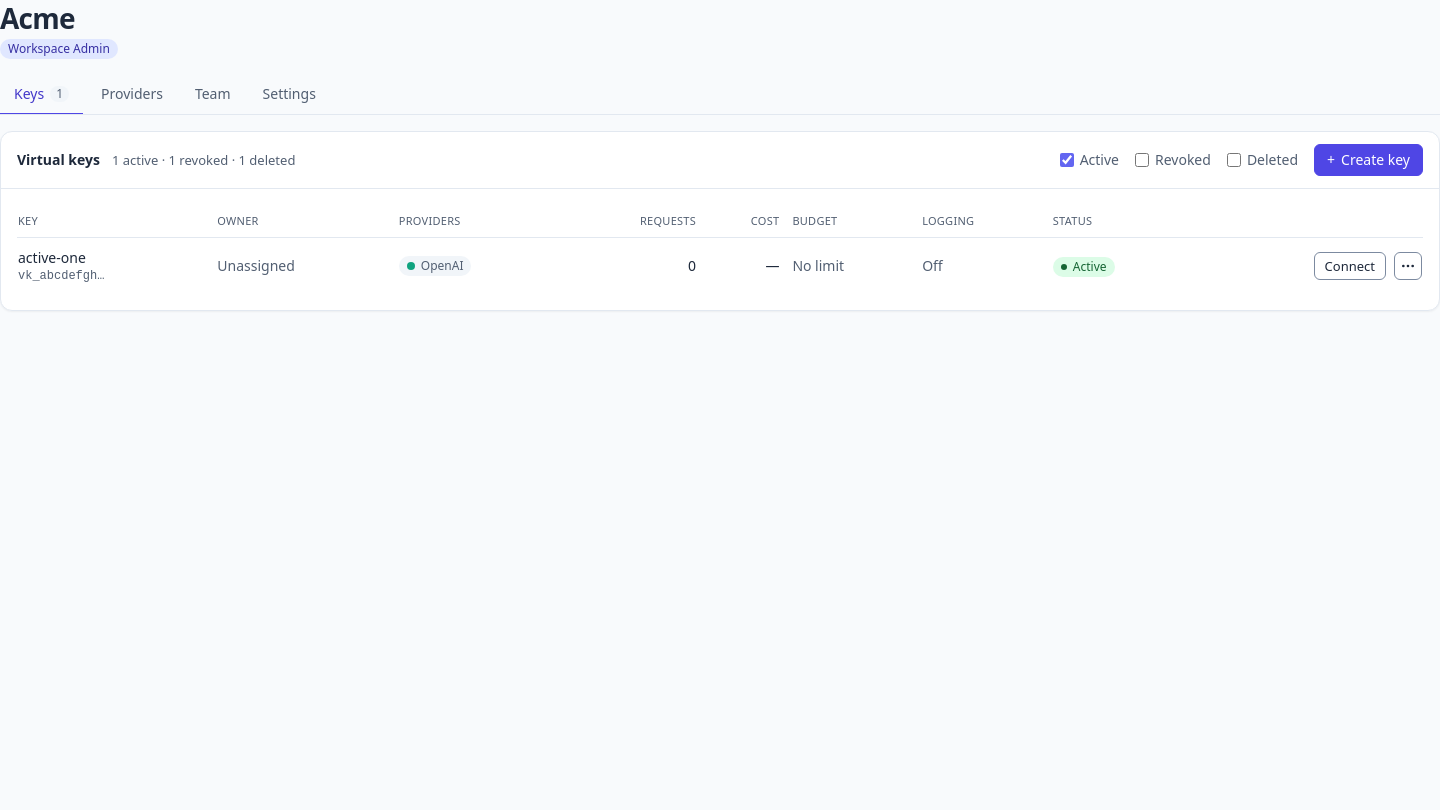
Test: Workspace -> red confirmation before revoke / delete › only revoked keys offer Delete, and it asks in a red box that says the history is kept
The width and height of the screenshot is (1440, 810).
Click the checkbox labelled "Revoked" at (1142, 160), box left=1135, top=153, right=1149, bottom=167
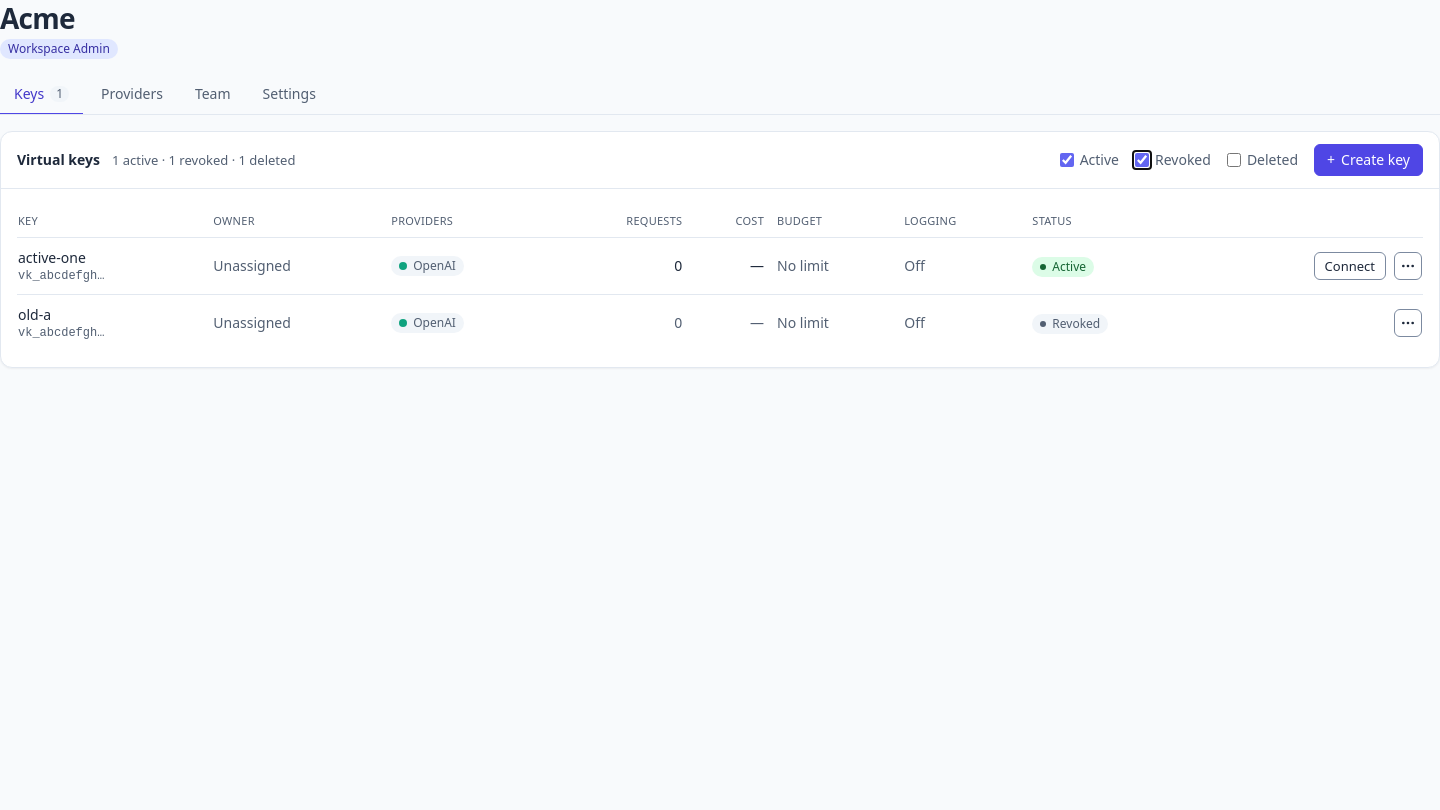
Result: the text "old-a" is shown at left=18, top=305, right=51, bottom=324
Click the button named "More actions for active-one" at (1408, 266), box left=1394, top=252, right=1422, bottom=280
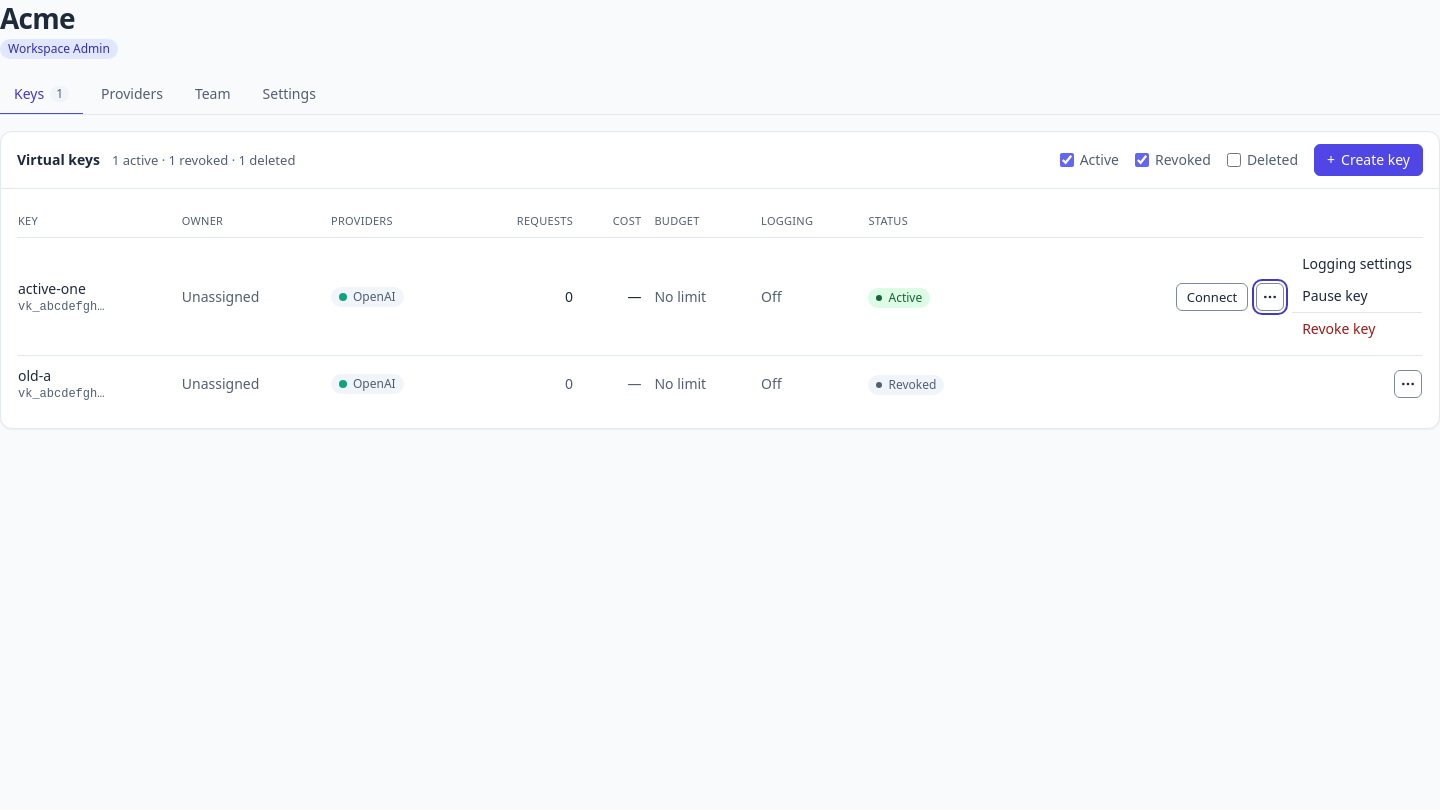
Expected: the menu item "Delete key" is not shown
Press Escape
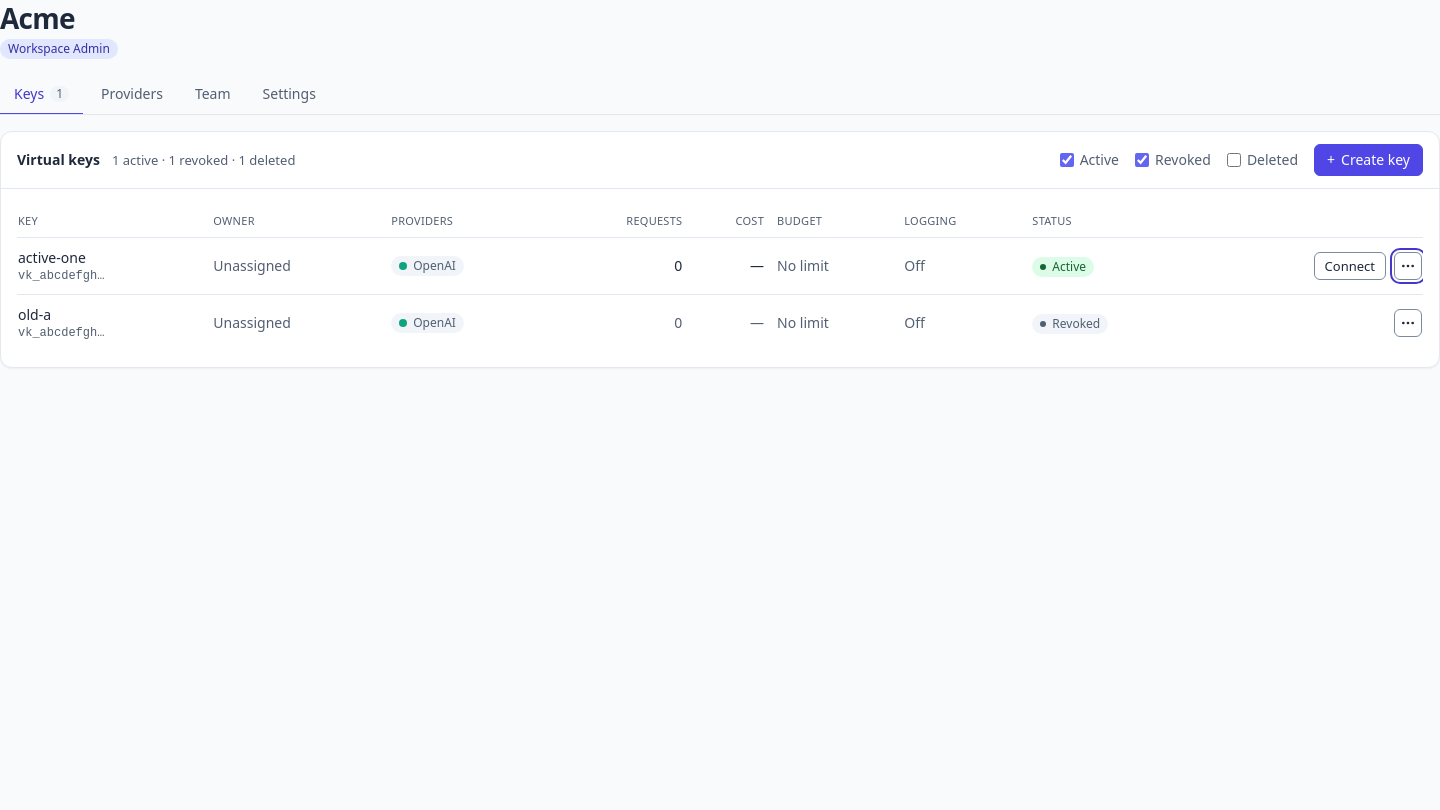
Click the button named "More actions for old-a" at (1408, 323), box left=1394, top=309, right=1422, bottom=337
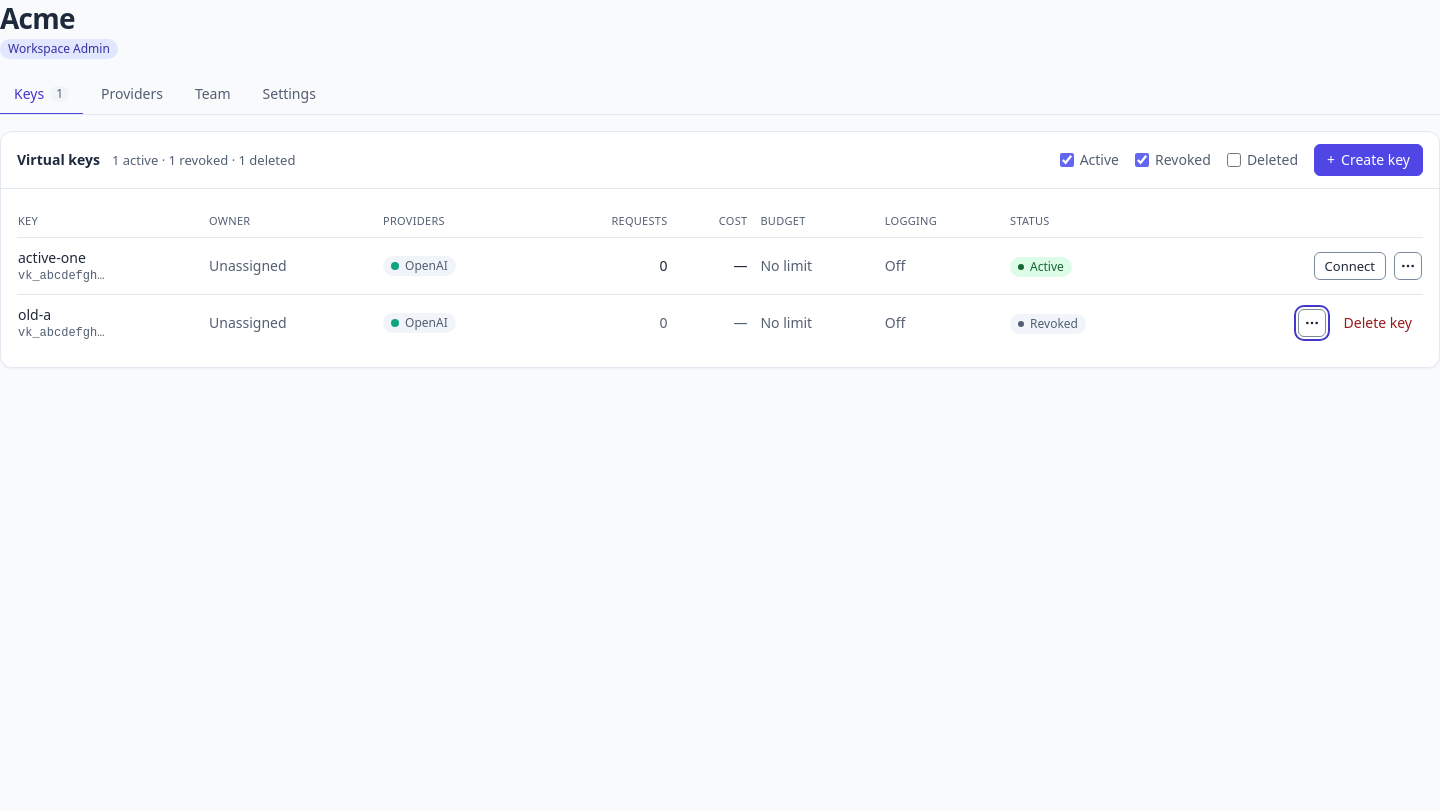
Click the menu item "Delete key" at (1378, 323), box left=1344, top=313, right=1412, bottom=332
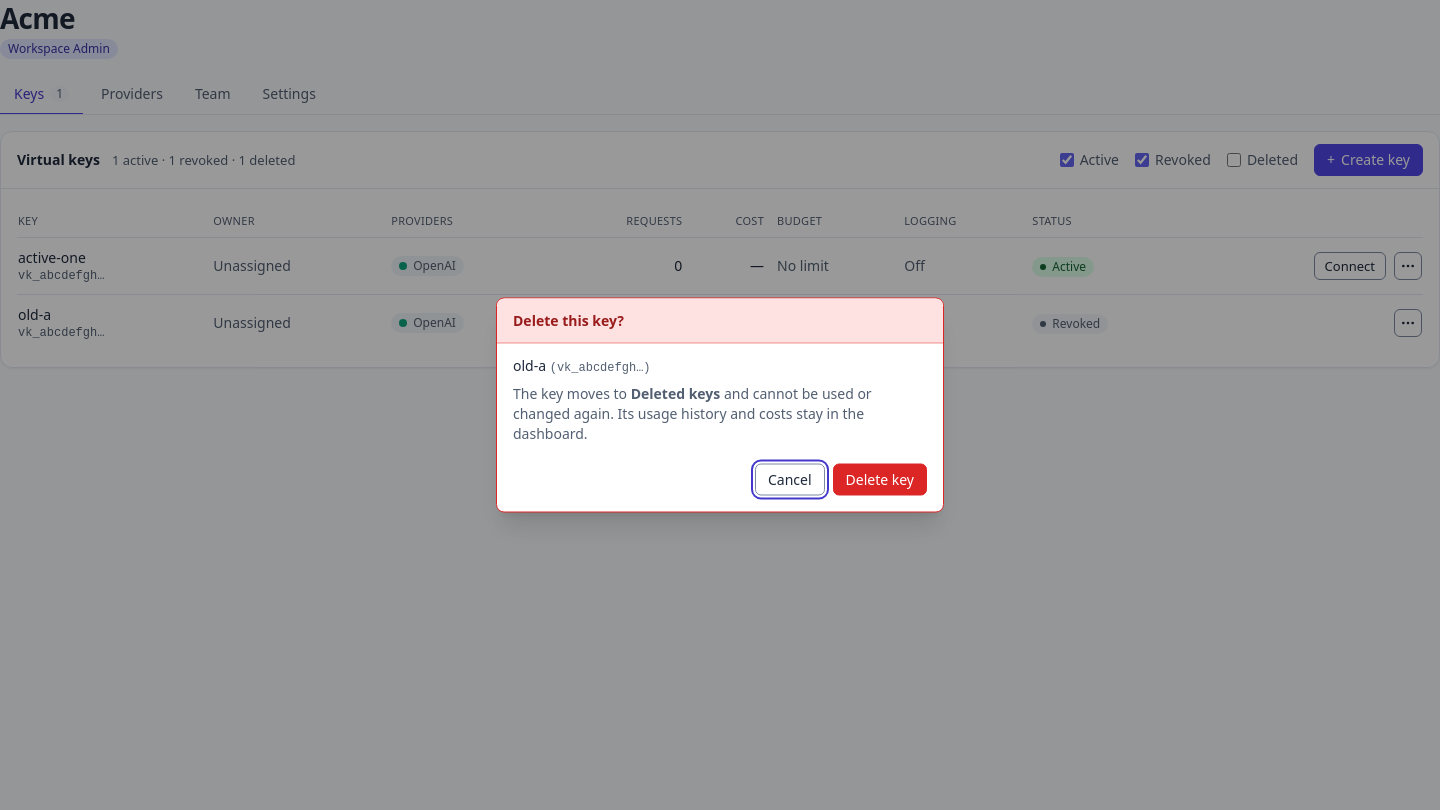
Result: the heading "Delete this key?" is shown at left=513, top=310, right=624, bottom=330
Result: the text "old-a" is shown at left=513, top=356, right=546, bottom=374
Result: the dialog shows "usage history" at left=513, top=384, right=872, bottom=442
